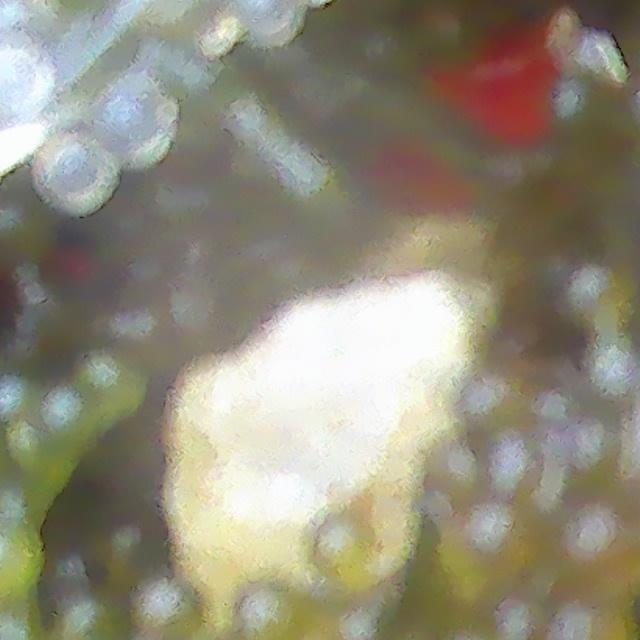SeaGrape: (555, 491, 640, 588), (92, 73, 177, 169), (31, 129, 115, 218), (304, 512, 378, 593), (462, 508, 542, 576), (39, 385, 107, 455), (233, 580, 307, 640), (74, 354, 141, 420), (131, 582, 201, 640), (427, 439, 484, 501), (0, 47, 49, 117), (460, 377, 520, 433), (238, 0, 304, 46), (49, 597, 119, 640), (0, 373, 35, 425)
